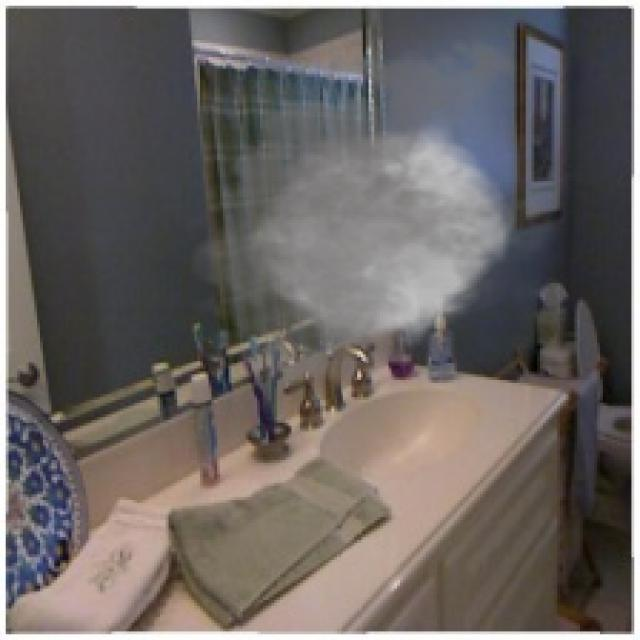Smoke: (177, 29, 583, 398)
